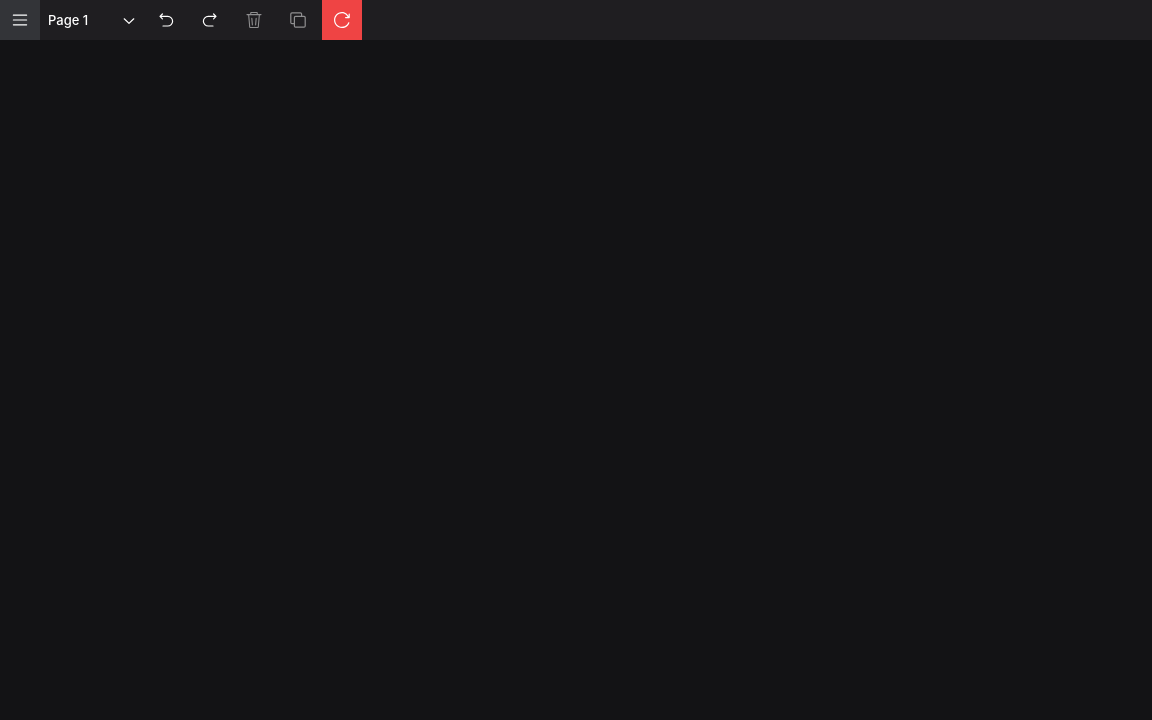
Test: Pages › opens the menu dialog when menu button is clicked
# Click the menu button
Click the button with test id "menu-button".
click(20, 20)  # box x1=0 y1=0 x2=40 y2=40
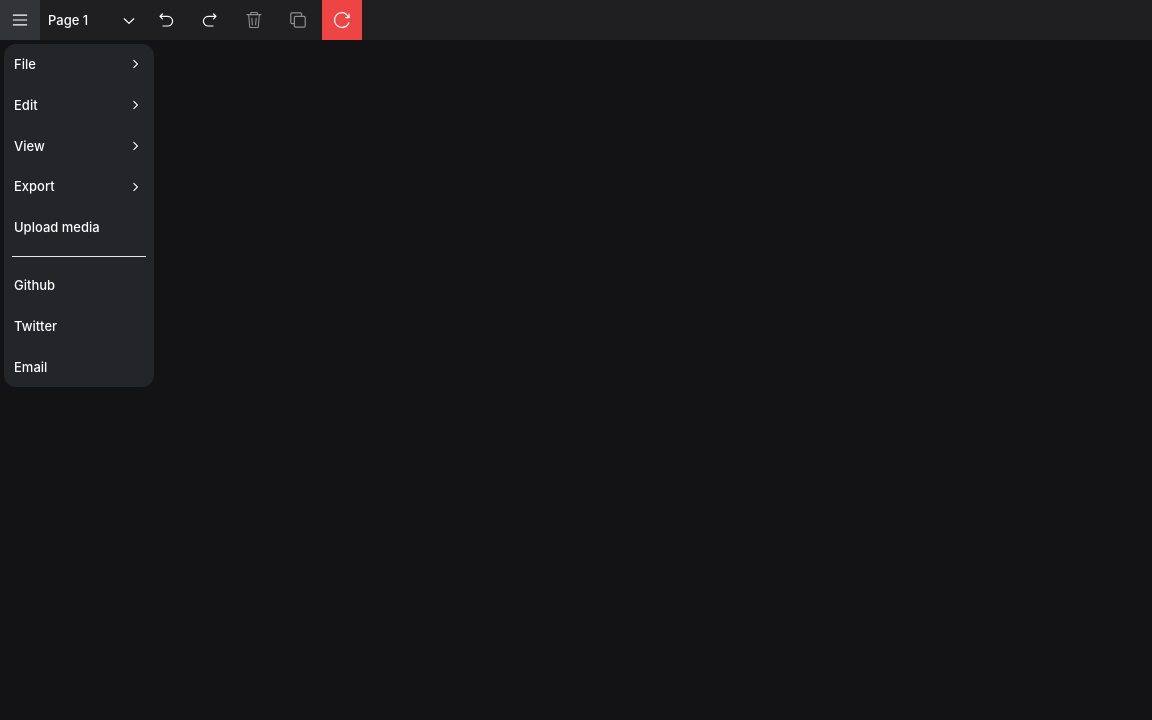
Expected: the element with test id "menu-dialog" is shown, x1=4 y1=44 x2=154 y2=387
